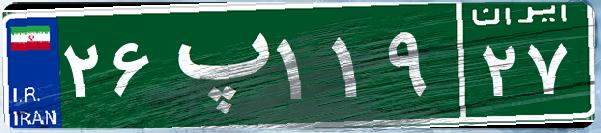1: (273, 28, 330, 110), (330, 28, 385, 110)
2: (57, 26, 110, 107), (475, 38, 525, 113)
6: (110, 28, 158, 105)
7: (525, 38, 570, 115)
9: (385, 28, 445, 110)
پ: (158, 15, 273, 115)
